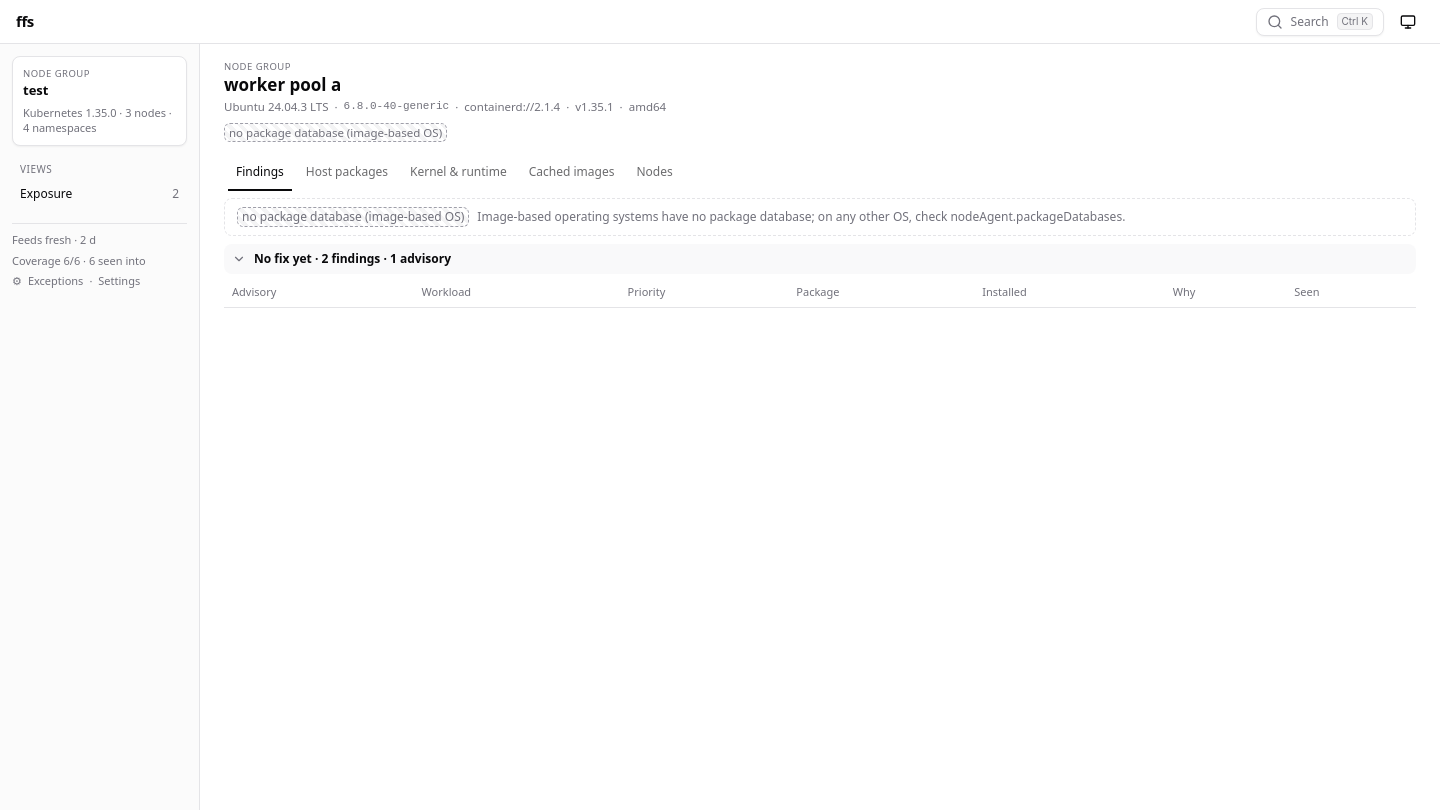
Scenario: a node group with gaps leads its findings and host packages with them
Expected: the 2nd text "no package database (image-based OS)" is shown, [237,207,469,227]
Click the tab "Host packages" at (347, 172), box [297,158,397,186]
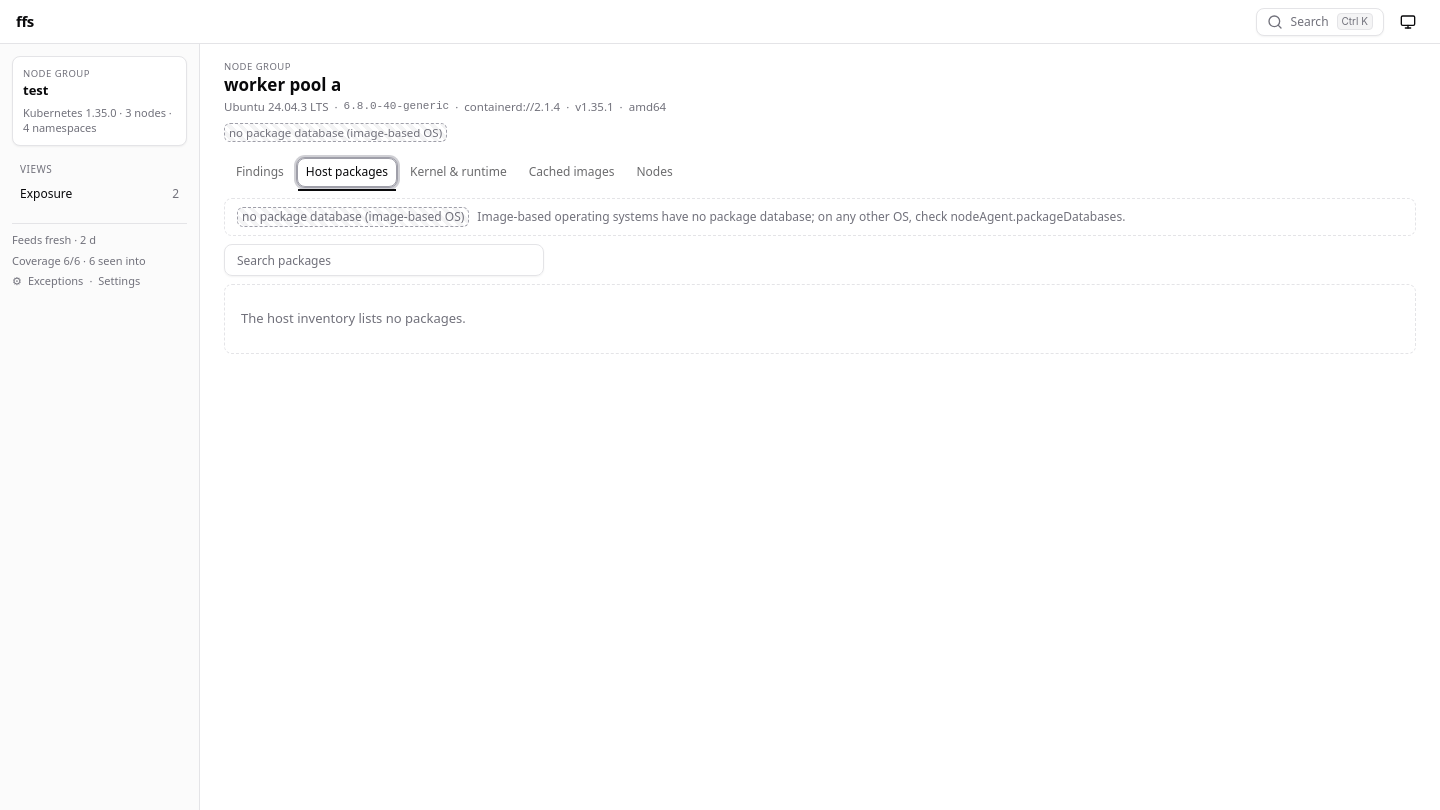
Expected: the text "Image-based operating systems have no package database; on any other OS, check nodeAgent.packageDatabases." is shown, [477,208,1125,225]
Result: the text "The host inventory lists no packages." is shown at [241,309,466,327]
